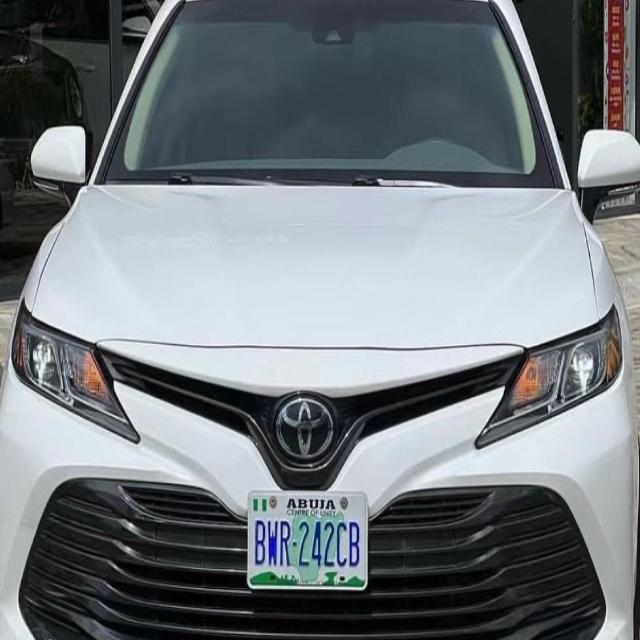Nigerian License Plate - vdataset benjamin-daria: (245, 485, 370, 597)
